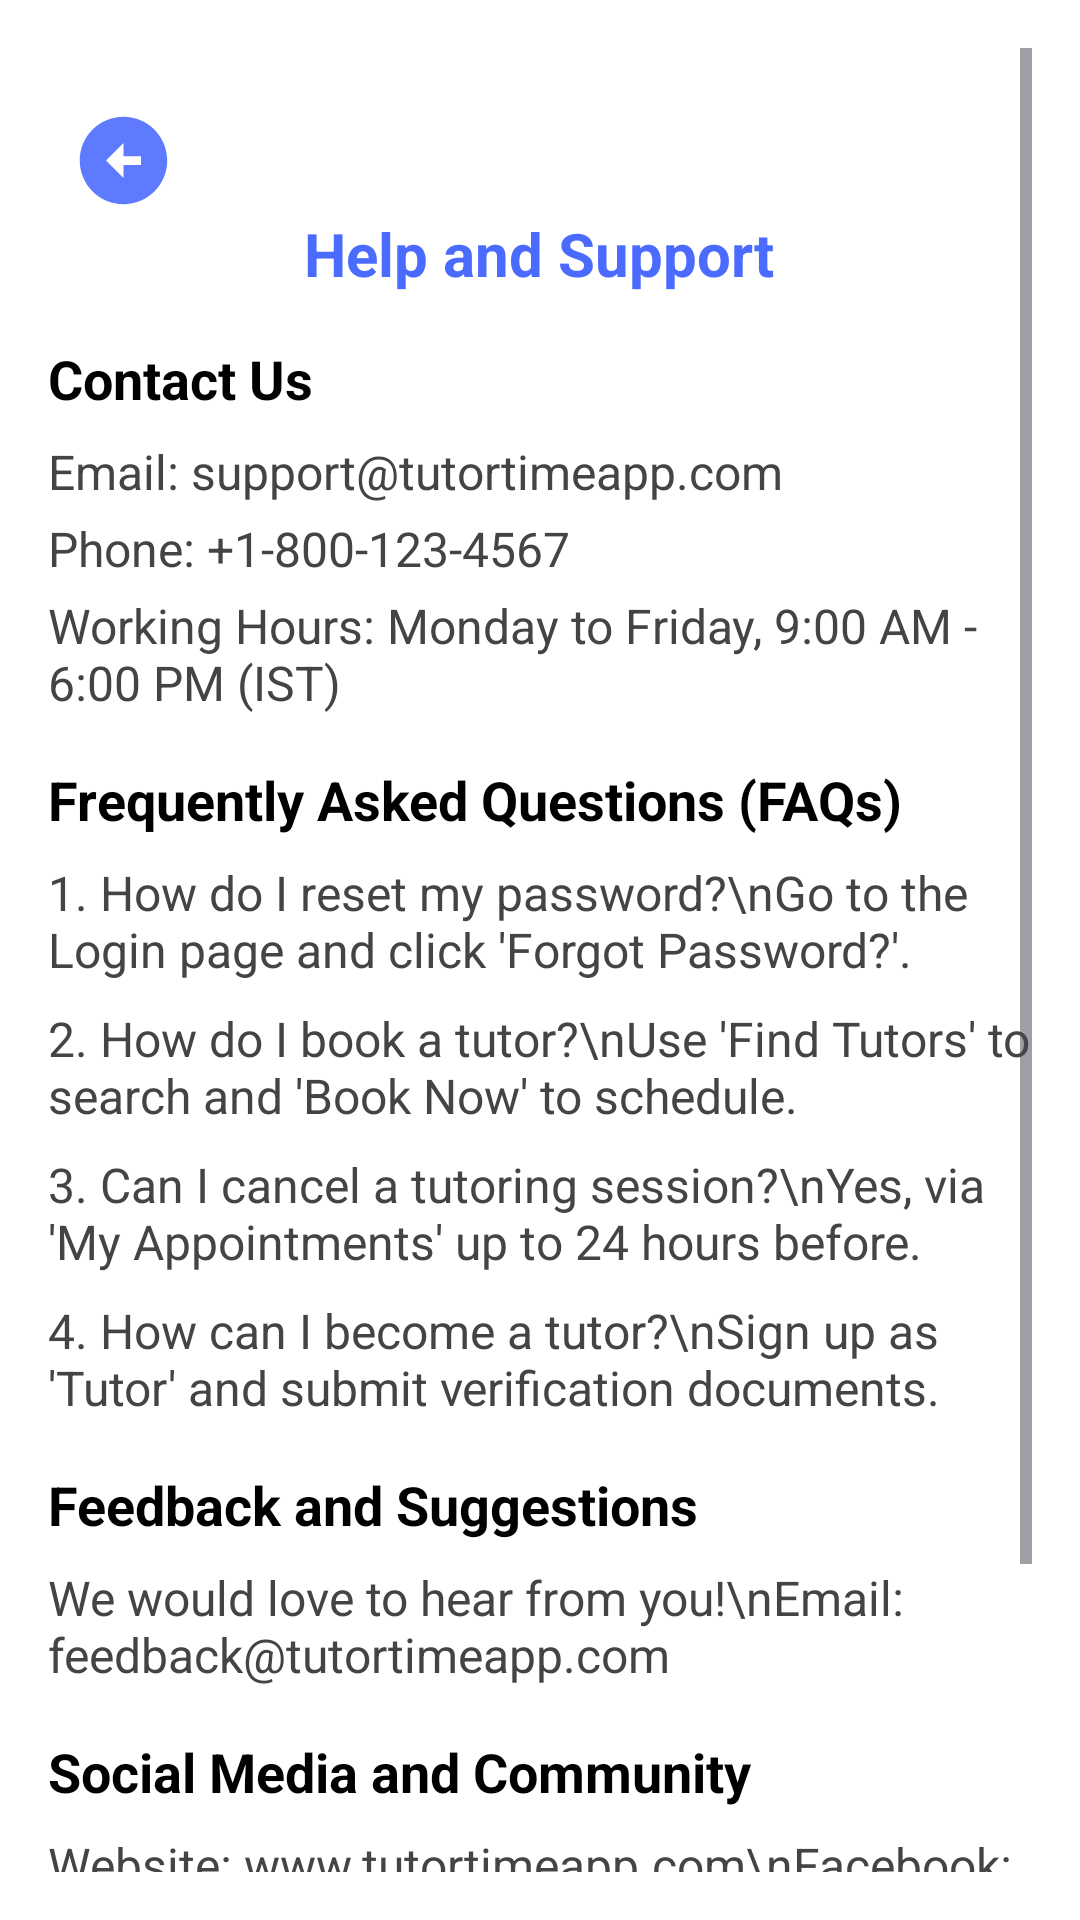

Icons on this 1080w x 1920h Android screen, each with the point to tap as (x,y):
arrow circle left: (123,160)
